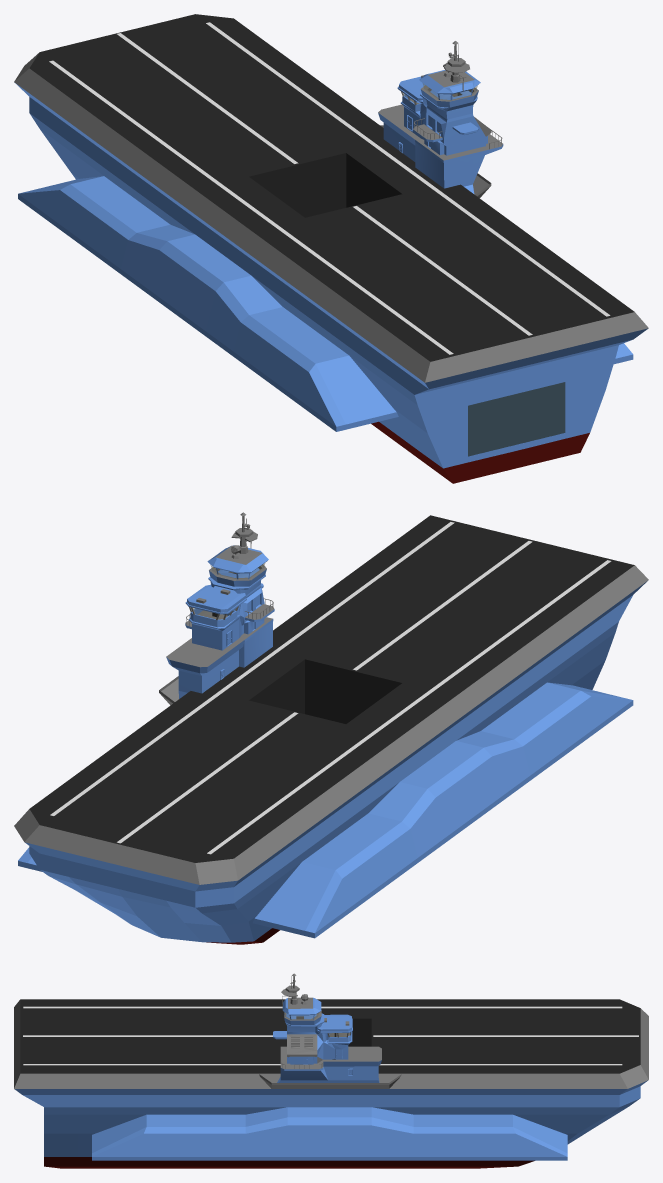
Rendered from Land carrier 2.glb.
3 views of the same model, one above another, from view 1: azimuth 30°, elevation 25°; view 2: azimuth 150°, elevation 25°; view 3: azimuth 270°, elevation 25° (orthographic). The views are drawn at different scales.
Parts seen in each view (by area): view 1: superstructure new.003, superstructure new.002, superstructure new, Ramp outer, Plane.003, Plane.002, Plane, Plane.001; view 2: superstructure new.003, superstructure new.002, superstructure new, Plane.003, Plane.002, Plane, Plane.001; view 3: superstructure new.003, superstructure new.002, superstructure new, Plane.002, Plane.003, Plane, Plane.001.
Boxes of the visible parts, box(x1,y1,x2,y2) form: superstructure new.003: box(14, 14, 648, 483); superstructure new.002: box(18, 176, 633, 431); superstructure new: box(378, 41, 503, 198); Ramp outer: box(468, 382, 565, 456); Plane.003: box(206, 22, 610, 316); Plane.002: box(49, 60, 453, 354); Plane: box(117, 33, 298, 163); Plane.001: box(353, 206, 532, 335); superstructure new.003: box(14, 515, 648, 944); superstructure new.002: box(18, 682, 633, 938); superstructure new: box(159, 512, 274, 705); Plane.003: box(50, 522, 454, 815); Plane.002: box(207, 560, 611, 854); Plane: box(117, 712, 298, 843); Plane.001: box(353, 541, 532, 670); superstructure new.003: box(14, 999, 648, 1168); superstructure new.002: box(92, 1107, 567, 1160); superstructure new: box(259, 973, 401, 1088); Plane.002: box(23, 1006, 622, 1008); Plane.003: box(23, 1064, 622, 1065); Plane: box(373, 1035, 638, 1036); Plane.001: box(23, 1035, 272, 1036).
Bounding box in the file's own units: 60.99 × 56.77 × 151.
